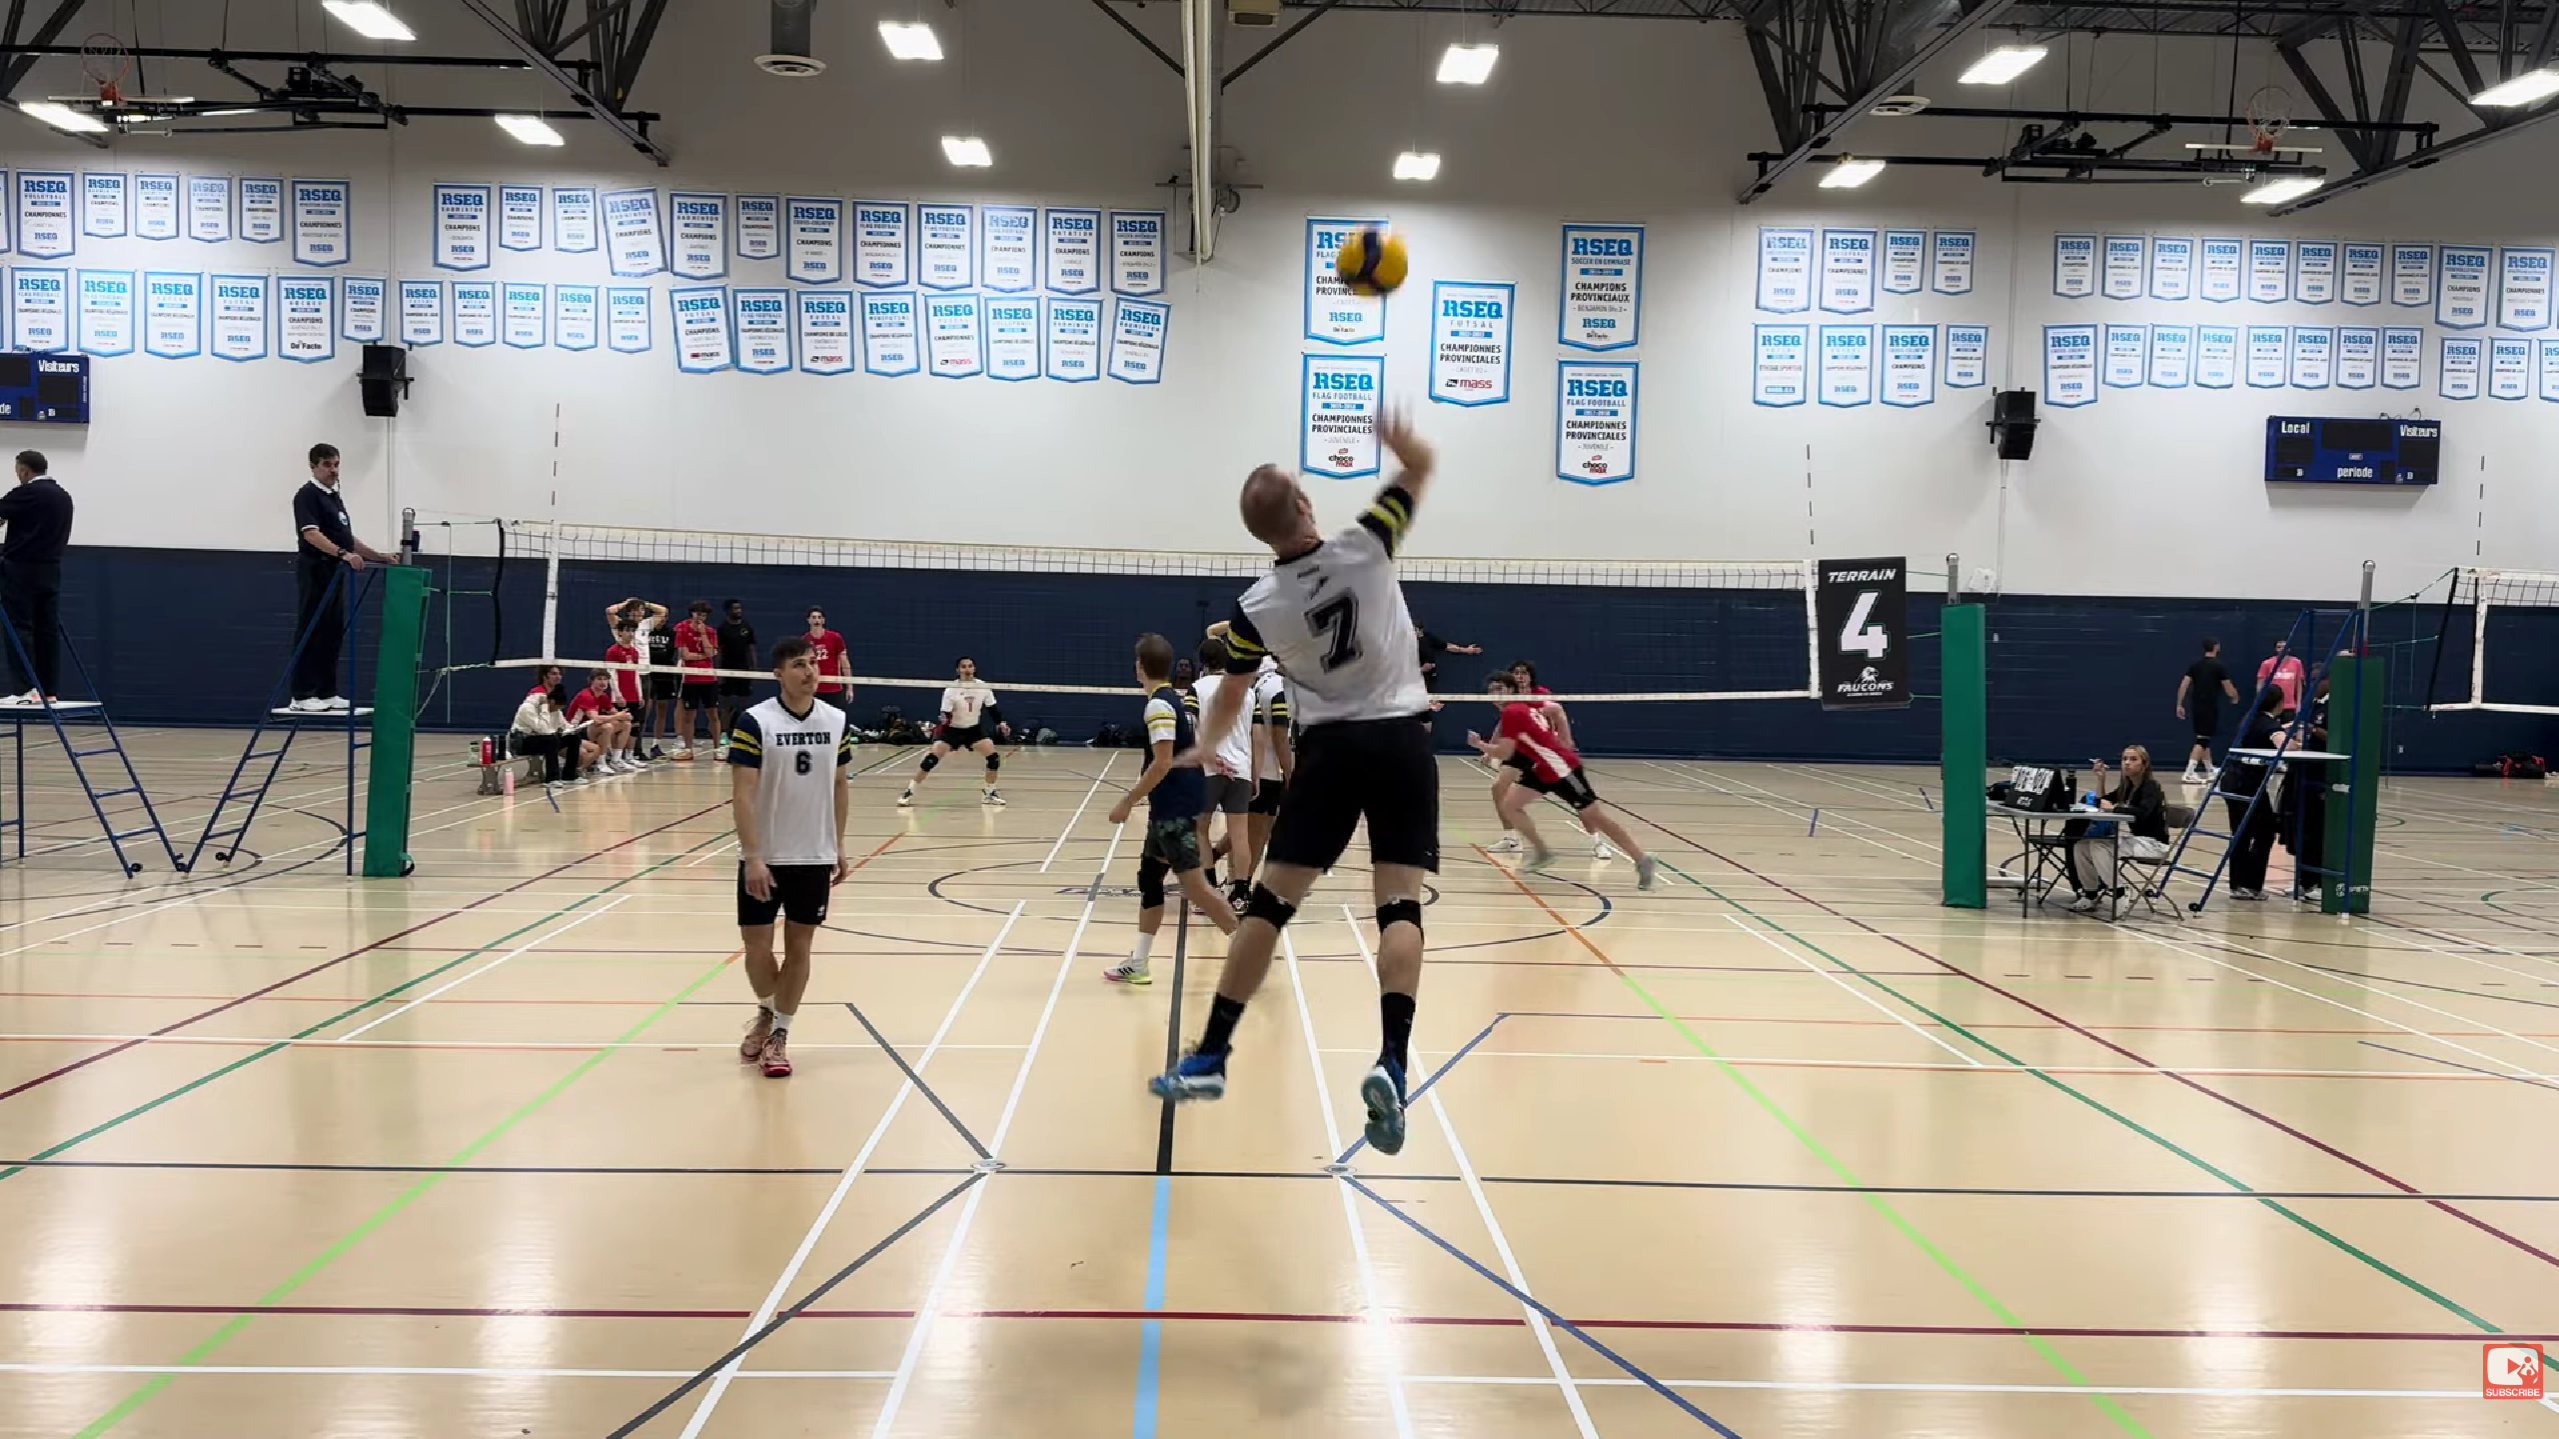Ball: (1334, 223, 1410, 300)
